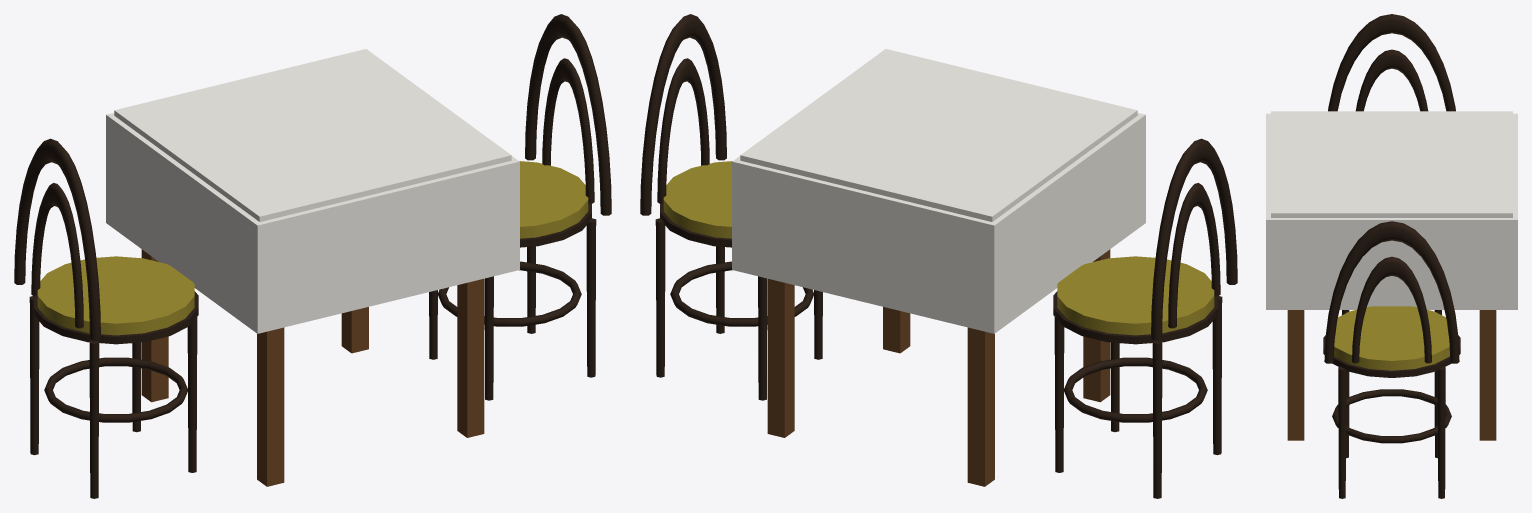
File: table-cafe.glb
3 renders of one model, left to right at view 1: azimuth 30°, elevation 25°; view 2: azimuth 150°, elevation 25°; view 3: azimuth 270°, elevation 25°, orthographic. The views are drawn at different scales.
Visible parts, largest first — view 1: table-cafe; view 2: table-cafe; view 3: table-cafe.
Boxes of the visible parts, <box> form: table-cafe: <box>14,14,611,498</box>; table-cafe: <box>640,14,1237,498</box>; table-cafe: <box>1266,14,1517,498</box>.
Bounding box in the file's own units: 1.56 × 0.9292 × 0.76.
